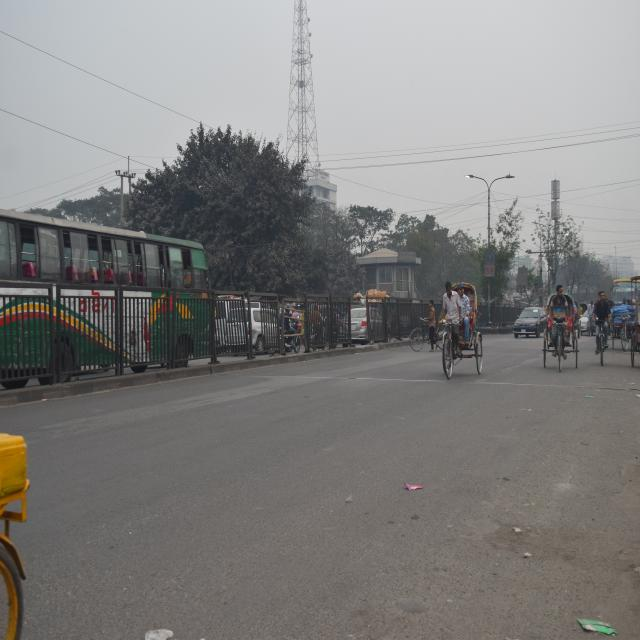bus: (0, 205, 210, 388), (609, 274, 640, 330)
car: (513, 301, 552, 335)
